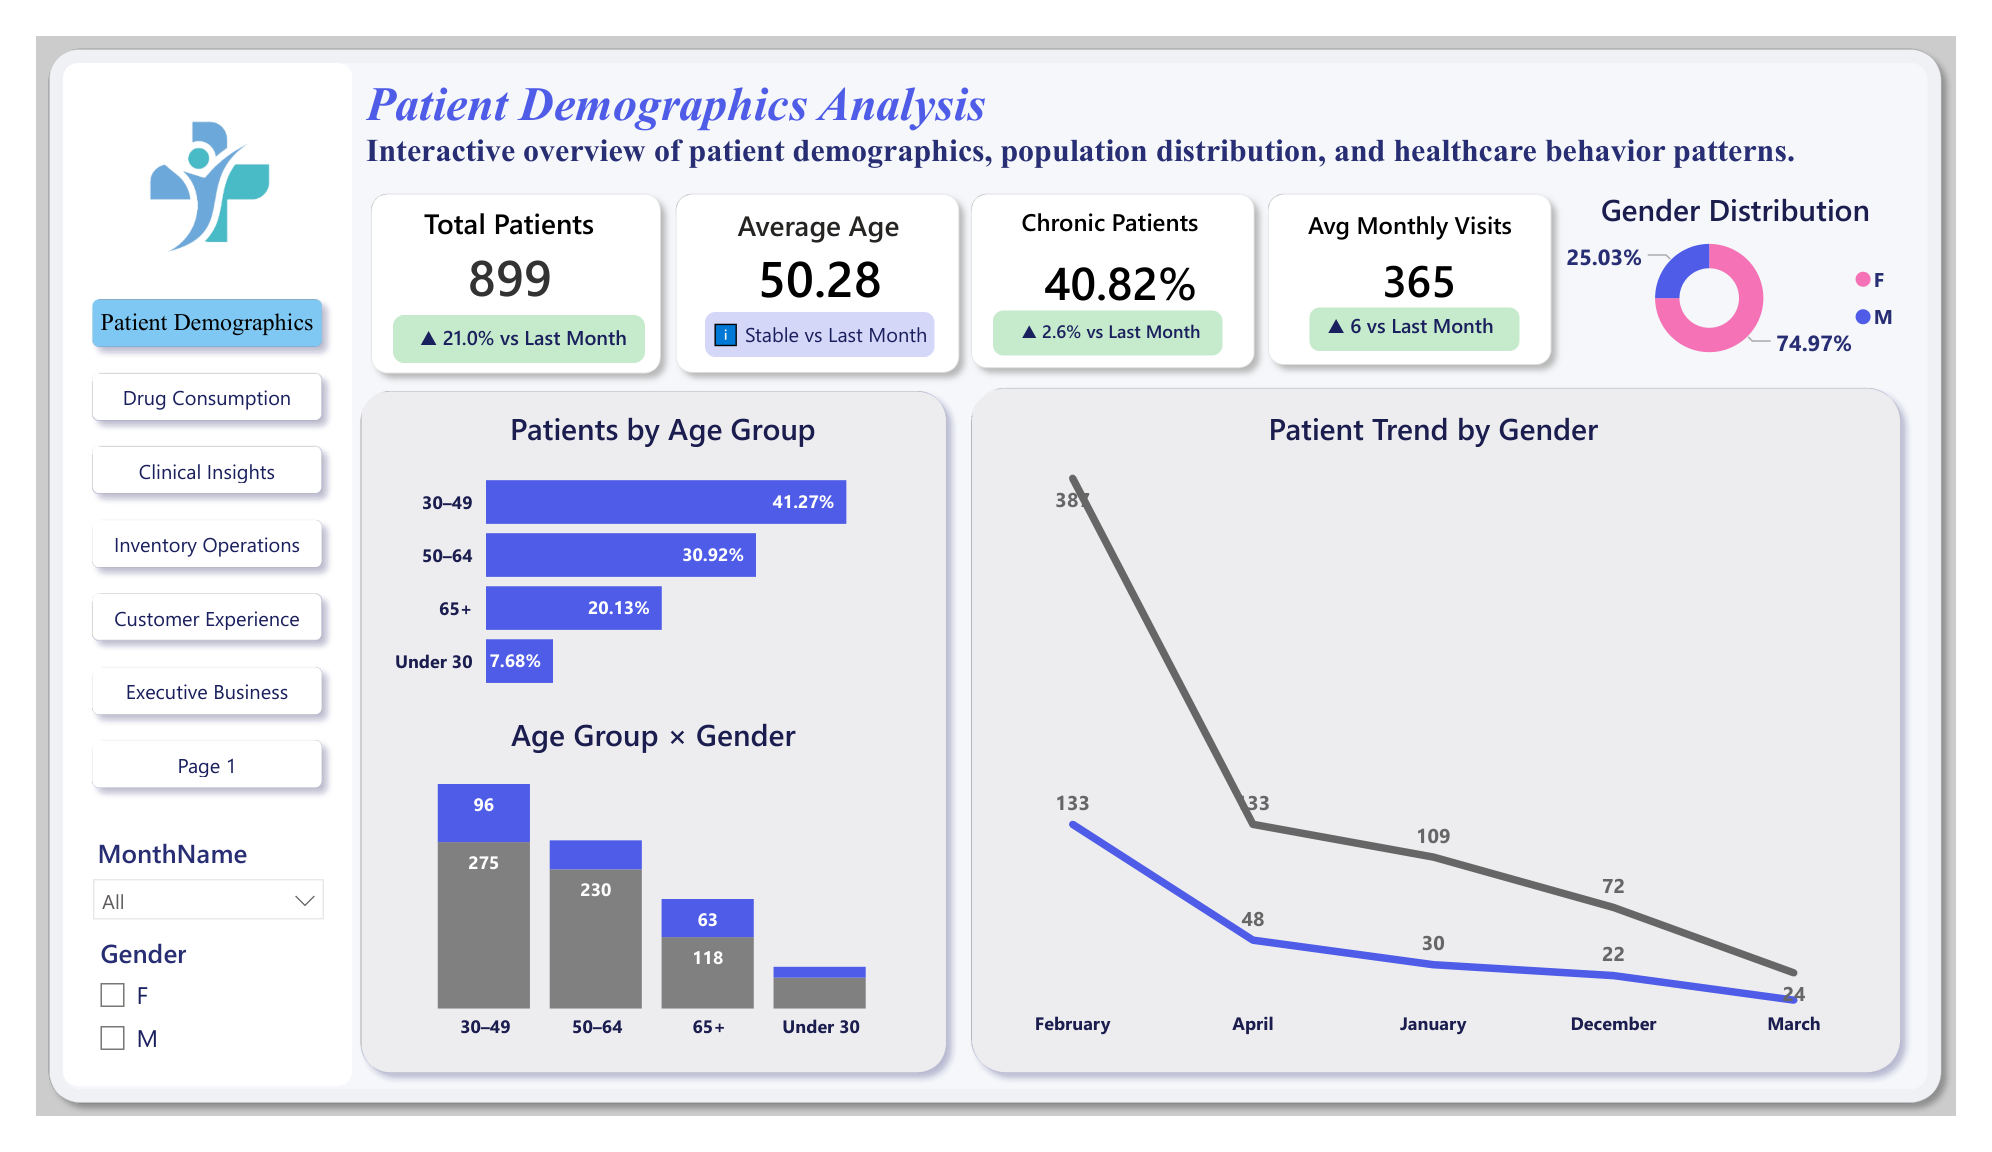

Layout of this report page (visuals, bound fields, positions):
{"tool":"powerbi","page":{"name":"Patient Demographics","canvas":[1280,720],"ordinal":0},"visuals":[{"type":"shape","box":[0,0,1279.3,719.9],"z":0},{"type":"shape","box":[615.5,96.8,206.4,133.3],"z":0,"group":"g5"},{"type":"shape","box":[812.7,96.8,206.4,131.3],"z":0,"group":"g6"},{"type":"shape","box":[215.4,96.9,210,136.7],"z":0,"group":"g3"},{"type":"shape","box":[847.8,179.1,142,31],"z":0,"group":"g1"},{"type":"shape","box":[636.9,181.7,155.7,31.8],"z":0,"group":"g2"},{"type":"cardVisual","title":"Total Patients","fields":{"Data":["_MeasureTable.Total Patients"]},"box":[257.4,129.9,118,60],"z":500,"group":"g3"},{"type":"shape","box":[18.3,18.3,192.6,681.7],"z":1000},{"type":"shape","box":[417.9,96.6,206,135.9],"z":1000,"group":"g4"},{"type":"cardVisual","title":"Total Patients","fields":{"Data":["_MeasureTable.Avg Monthly Visits"]},"box":[864,134.4,115.5,57.9],"z":1000,"group":"g6"},{"type":"cardVisual","title":"Total Patients","fields":{"Data":["_MeasureTable.Chronic Patients %"]},"box":[665.6,135.4,115.7,52],"z":1000,"group":"g5"},{"type":"cardVisual","fields":{"Data":["_MeasureTable.Visits Indicator"]},"box":[831.8,152.3,181.8,87.2],"z":1000,"group":"g1"},{"type":"cardVisual","fields":{"Data":["_MeasureTable.Chronic Indicator"]},"box":[628.3,156.9,180.3,76.3],"z":1000,"group":"g2"},{"type":"shape","box":[237.2,185.4,170.5,34.2],"z":1000,"group":"g9"},{"type":"image","box":[38.2,36.7,151.3,114.6],"z":2000},{"type":"group","id":"g1","title":"Group 1","box":[831.8,152.3,181.8,87.2],"z":2000,"group":"g6"},{"type":"group","id":"g2","title":"Group 1","box":[628.3,156.9,180.3,76.3],"z":2000,"group":"g5"},{"type":"cardVisual","fields":{"Data":["_MeasureTable.Growth Indicator"]},"box":[227.4,161.3,207.3,64.5],"z":2000,"group":"g9"},{"type":"shape","box":[444.9,182.3,154.7,32.7],"z":2000,"group":"g4"},{"type":"textbox","box":[631.2,108,169.8,31.3],"z":3000,"group":"g5"},{"type":"textbox","box":[827.9,109.8,176.1,37.5],"z":3000,"group":"g6"},{"type":"cardVisual","title":"Total Patients","fields":{"Data":["_MeasureTable.Average Age"]},"box":[464.7,130.8,115.5,52.6],"z":3000,"group":"g4"},{"type":"pageNavigator","box":[29,166.6,169.7,348.5],"z":3000},{"type":"textbox","box":[214.9,22.2,996.1,72.6],"z":4000},{"type":"textbox","box":[447.6,107.2,147.5,35.3],"z":4000,"group":"g4"},{"type":"slicer","fields":{"Values":["DimDate.MonthName"]},"box":[27.5,527.3,174.2,67.3],"z":5000},{"type":"slicer","fields":{"Values":["Patient.Gender"]},"box":[29.7,594.3,151.5,93.6],"z":6000},{"type":"group","id":"g3","title":"Card_1","box":[215.4,96.9,218.5,136.9],"z":7000},{"type":"group","id":"g4","title":"Card_2","box":[417.9,96.6,206,136],"z":8000},{"type":"group","id":"g5","title":"Card_3","box":[615.5,96.8,206.4,136.4],"z":9000},{"type":"group","id":"g6","title":"Card_4","box":[812.7,96.8,206.4,142.7],"z":10000},{"type":"shape","box":[615.4,226.2,636.9,473.8],"z":11000,"group":"g8"},{"type":"group","id":"g7","title":"Group 2","box":[207.7,227.7,407.7,472.3],"z":11000},{"type":"shape","box":[207.7,227.7,407.7,472.3],"z":11000,"group":"g7"},{"type":"group","id":"g8","title":"Group 2","box":[615.4,226.2,636.9,473.8],"z":12000},{"type":"clusteredBarChart","title":"Patients by Age Group","fields":{"Category":["Patient.Age Group"],"Y":["CountNonNull(Patient.Patient_ID)"]},"box":[232.4,246.3,369.9,203.9],"z":12000,"group":"g7"},{"type":"group","id":"g9","title":"Group 4","box":[227.4,161.3,207.3,64.5],"z":12502,"group":"g3"},{"type":"donutChart","title":"Gender Distribution","fields":{"Y":["Divide(CountNonNull(Patient.Patient_ID), ScopedEval(CountNonNull(Patient.Patient_ID), []))"],"Category":["Patient.Gender"]},"box":[1013.6,101.3,238.2,124.5],"z":13000},{"type":"lineChart","title":"Patient Trend by Gender","fields":{"Category":["DimDate.MonthName"],"Y":["_MeasureTable.Total Patients"],"Series":["Patient.Gender"]},"box":[637.9,247.3,587.1,429.9],"z":13000,"group":"g8"},{"type":"columnChart","title":"Age Group × Gender","fields":{"Category":["Patient.Age Group"],"Y":["CountNonNull(Patient.Patient_ID)"],"Series":["Patient.Gender"]},"box":[232.4,450.2,357.3,228.3],"z":13000,"group":"g7"},{"type":"textbox","box":[241.4,106.9,149,36],"z":13501,"group":"g3"}]}

Visuals, with their boxes in screenshot pixels (x1, y1, x2, y2), scaled from the page's 1280x720 canvas onto the 1992x1152 screenshot:
shape: region(0, 0, 1991, 1151)
shape: region(958, 155, 1279, 368)
shape: region(1265, 155, 1586, 365)
shape: region(335, 155, 662, 374)
shape: region(1319, 287, 1540, 336)
shape: region(991, 291, 1233, 342)
"Total Patients" cardVisual: region(401, 208, 584, 304)
shape: region(28, 29, 328, 1120)
shape: region(650, 155, 971, 372)
"Total Patients" cardVisual: region(1345, 215, 1524, 308)
"Total Patients" cardVisual: region(1036, 217, 1216, 300)
cardVisual - _MeasureTable.Visits Indicator: region(1294, 244, 1577, 383)
cardVisual - _MeasureTable.Chronic Indicator: region(978, 251, 1258, 373)
shape: region(369, 297, 634, 351)
image: region(59, 59, 295, 242)
"Group 1" group: region(1294, 244, 1577, 383)
"Group 1" group: region(978, 251, 1258, 373)
cardVisual - _MeasureTable.Growth Indicator: region(354, 258, 677, 361)
shape: region(692, 292, 933, 344)
textbox: region(982, 173, 1247, 223)
textbox: region(1288, 176, 1562, 236)
"Total Patients" cardVisual: region(723, 209, 903, 293)
pageNavigator: region(45, 267, 309, 824)
textbox: region(334, 36, 1885, 152)
textbox: region(697, 172, 926, 228)
slicer - DimDate.MonthName: region(43, 844, 314, 951)
slicer - Patient.Gender: region(46, 951, 282, 1101)
"Card_1" group: region(335, 155, 675, 374)
"Card_2" group: region(650, 155, 971, 372)
"Card_3" group: region(958, 155, 1279, 373)
"Card_4" group: region(1265, 155, 1586, 383)
shape: region(958, 362, 1949, 1120)
"Group 2" group: region(323, 364, 958, 1120)
shape: region(323, 364, 958, 1120)
"Group 2" group: region(958, 362, 1949, 1120)
"Patients by Age Group" clusteredBarChart: region(362, 394, 937, 720)
"Group 4" group: region(354, 258, 677, 361)
"Gender Distribution" donutChart: region(1577, 162, 1948, 361)
"Patient Trend by Gender" lineChart: region(993, 396, 1906, 1084)
"Age Group × Gender" columnChart: region(362, 720, 918, 1086)
textbox: region(376, 171, 608, 229)
